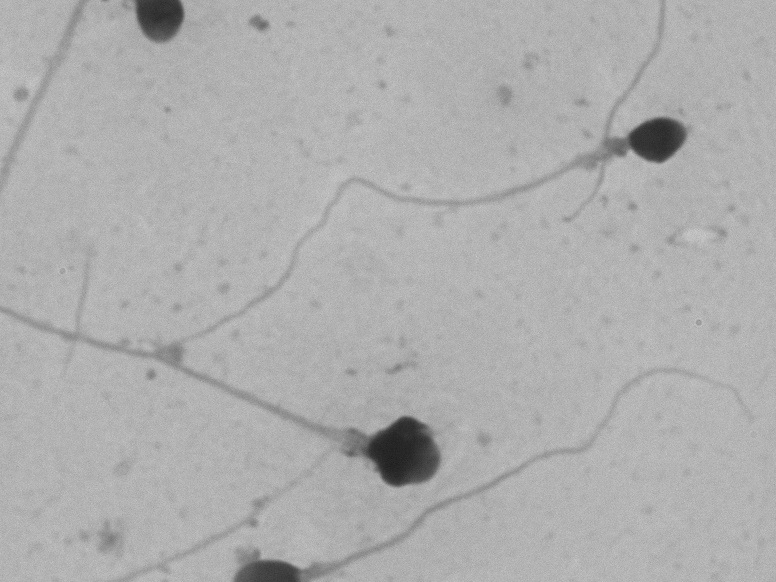Abnormal: (166, 72, 700, 338), (8, 267, 458, 495)
